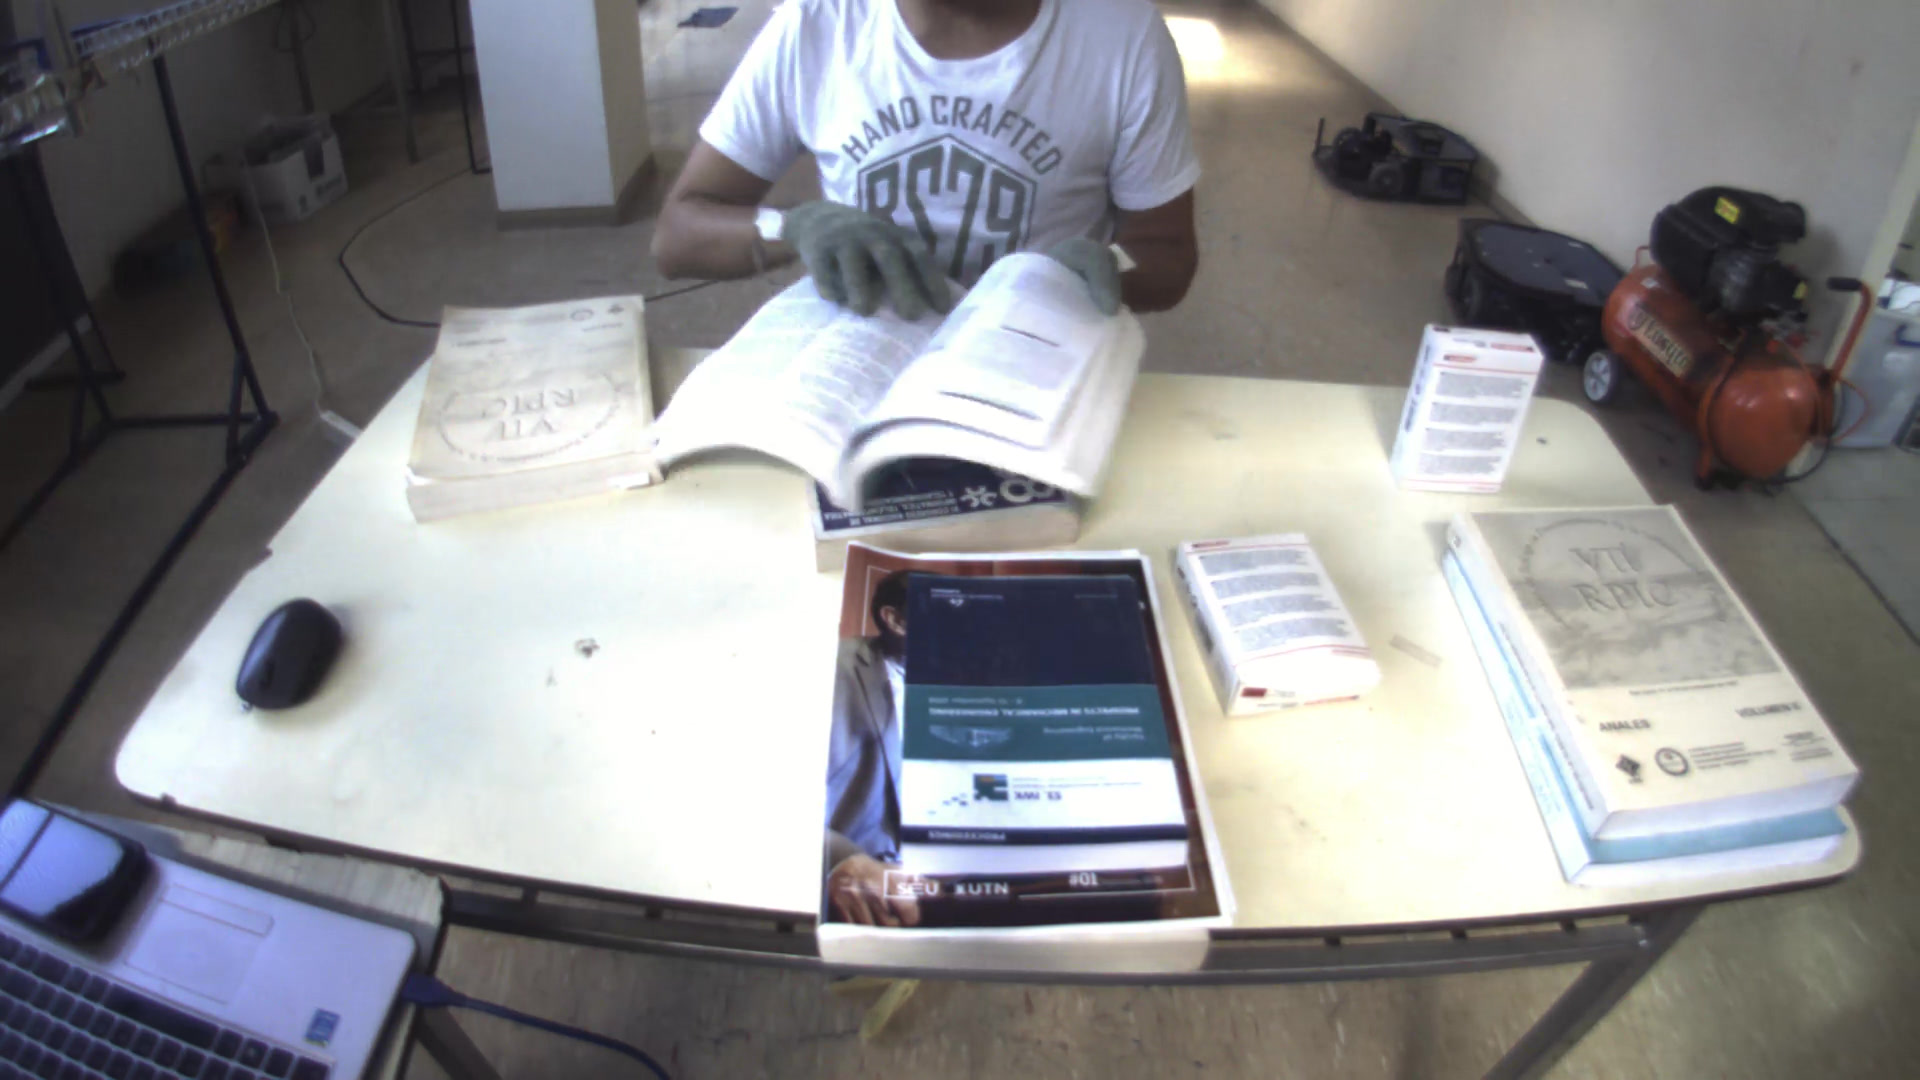hand: (757, 193, 959, 318)
